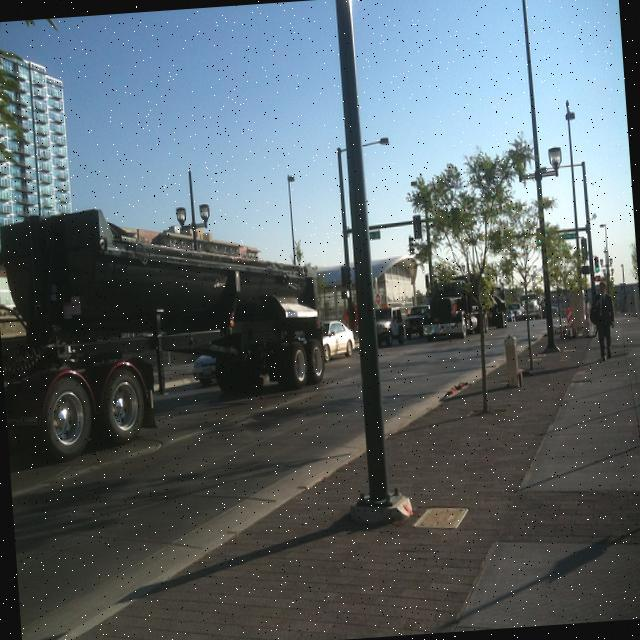fire_hydrant: (502, 331, 523, 387)
